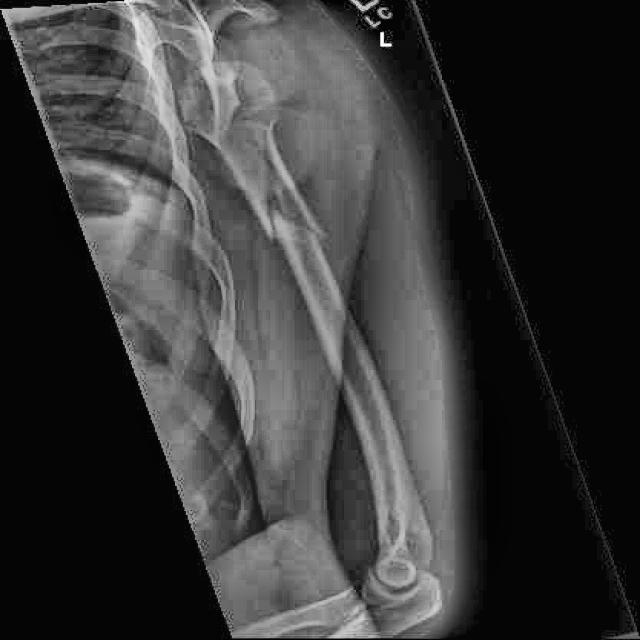humerus: (224, 129, 351, 304)
